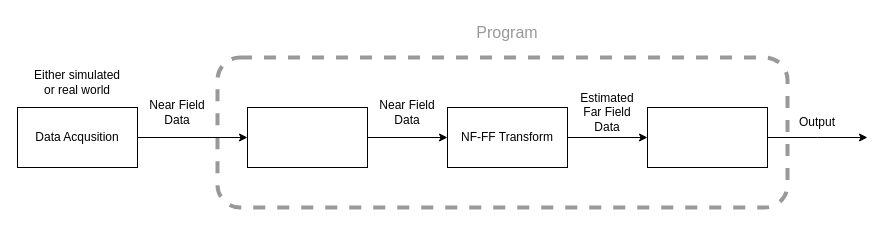
This 893x226 diagram has some shape labels left out. Each missing label, with the centre of its shape:
"Post-processing" belongs at (x=707, y=137).
"Pre-processing" belongs at (x=307, y=137).
